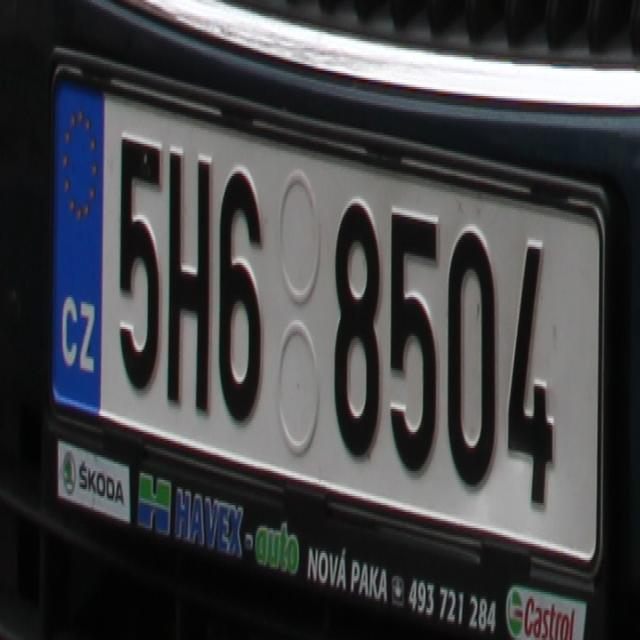0: (444, 219, 496, 487)
4: (504, 235, 556, 519)
5: (387, 197, 437, 476), (115, 132, 161, 398)
6: (218, 158, 263, 427)
8: (332, 196, 380, 462)
H: (164, 142, 214, 420)
